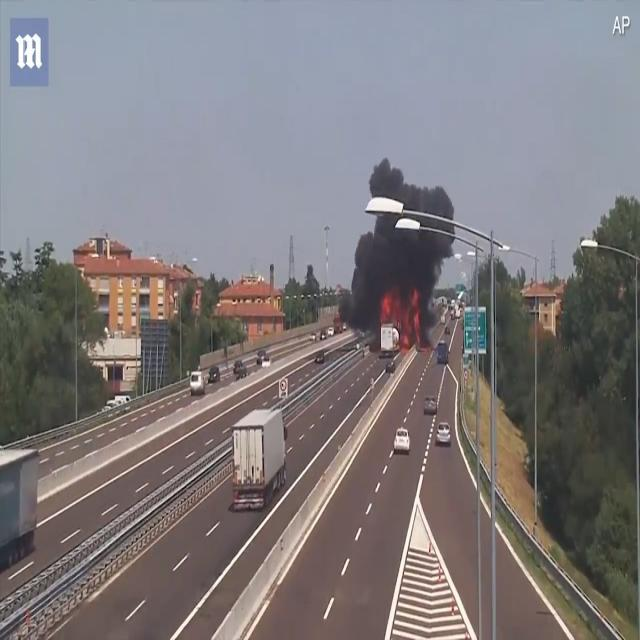Fire: (381, 289, 419, 352)
Smoke: (340, 160, 454, 350)
